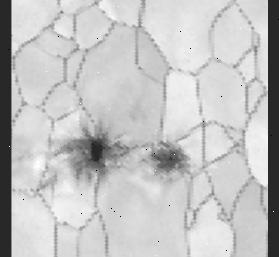good_void: (50, 118, 136, 191), (135, 131, 196, 185), (33, 163, 59, 195)
